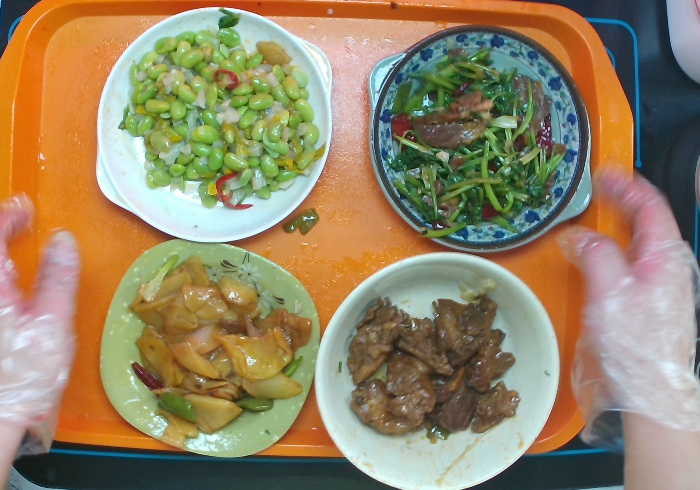NLDX-Bai_Se_Shuang_Er_Die: (92, 4, 335, 247)
NLDX-Bai_Se_Yuan_Wan: (309, 246, 562, 490)
NLDX-Lv_Hua_Fang_Die: (93, 236, 323, 462)
NLDX-Qing_Hua_Shuang_Er_Die: (360, 19, 595, 258)
